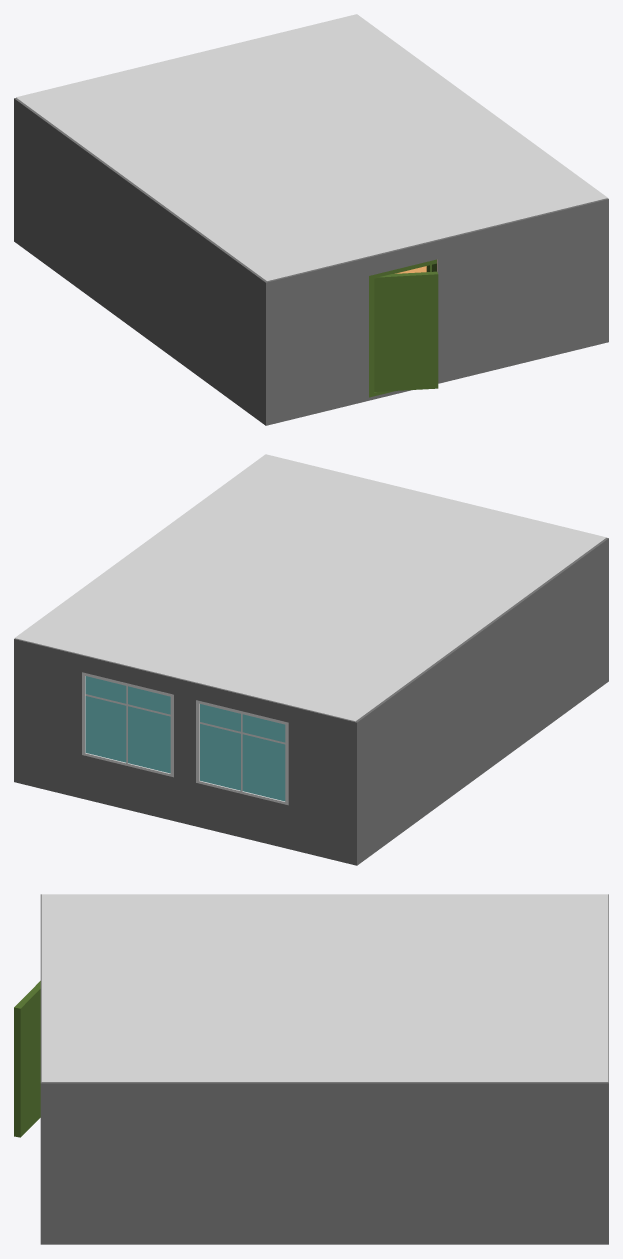
The picture shows the model from 3 angles, top to bottom: view 1: azimuth 30°, elevation 25°; view 2: azimuth 150°, elevation 25°; view 3: azimuth 270°, elevation 25°; orthographic projection. The views are drawn at different scales.
Parts seen in each view (by area): view 1: room pPlane2, pPlane1 room, room pCube233, room pCube230; view 2: room pPlane2, pPlane1 room, room pCube228, room pCube229; view 3: room pPlane2, pPlane1 room, room pCube233.
Part boxes in pixels (x1,y1,x2,y2): room pPlane2: (16,14,607,280); pPlane1 room: (14,97,608,425); room pCube233: (374,271,438,391); room pCube230: (369,259,436,397); room pPlane2: (15,454,606,721); pPlane1 room: (14,537,608,865); room pCube228: (196,700,288,805); room pCube229: (82,672,173,777); room pPlane2: (41,894,608,1081); pPlane1 room: (40,894,608,1244); room pCube233: (14,981,40,1137).
Size of the model in its own units: 7.8 by 3.13 by 10.39.
